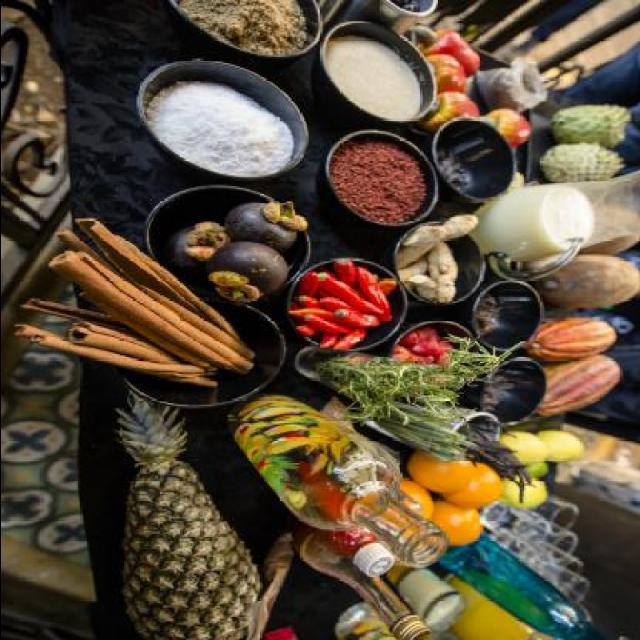Pineapple: (114, 392, 268, 638)
